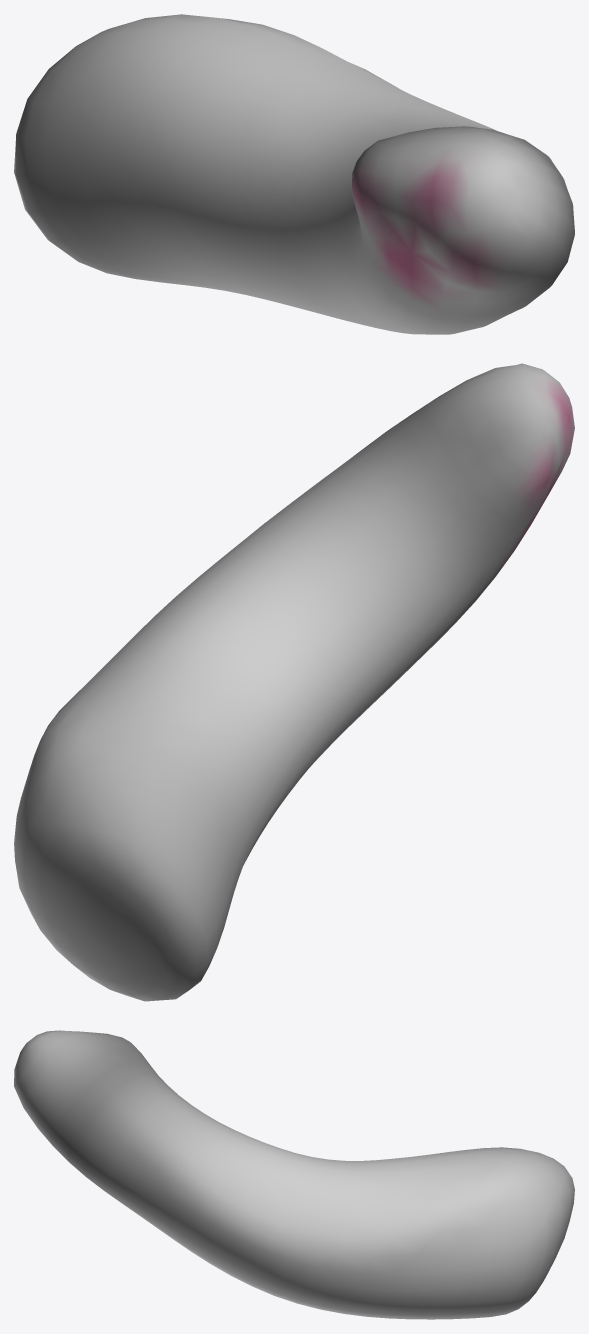
Rendered from bongo_arm_right.fbx.
3 views of the same model, one above another, from view 1: azimuth 30°, elevation 25°; view 2: azimuth 150°, elevation 25°; view 3: azimuth 270°, elevation 25° (orthographic). The views are drawn at different scales.
Parts seen in each view (by area): view 1: bongo_arm_right; view 2: bongo_arm_right; view 3: bongo_arm_right.
Part boxes in pixels (box(x1,y1,x2,y2)): bongo_arm_right: box(14, 14, 574, 334); bongo_arm_right: box(14, 363, 574, 1001); bongo_arm_right: box(14, 1030, 574, 1319).
Size of the model in its own units: 0.3146 by 0.3955 by 0.7906.
